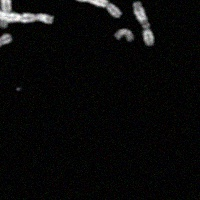chromosome: (132, 0, 153, 45), (75, 0, 120, 19), (0, 5, 22, 23), (0, 0, 12, 27), (22, 13, 54, 23), (114, 29, 134, 42), (0, 32, 13, 49), (0, 0, 28, 6)
